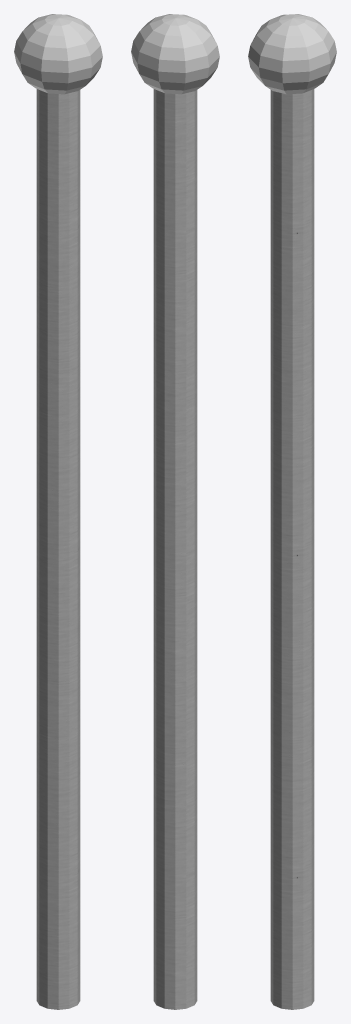
Rendered from Flagpole.fbx.
3 views of the same model, side by side, from view 1: azimuth 30°, elevation 25°; view 2: azimuth 210°, elevation 25°; view 3: azimuth 330°, elevation 25° (orthographic).
Visible parts, largest first — view 1: Pole, Sphere; view 2: Pole, Sphere; view 3: Pole, Sphere.
Boxes of the visible parts, bbox=[...] form: Pole: bbox=[36, 89, 80, 1009]; Sphere: bbox=[14, 14, 102, 94]; Pole: bbox=[153, 89, 197, 1009]; Sphere: bbox=[131, 14, 219, 94]; Pole: bbox=[270, 89, 314, 1009]; Sphere: bbox=[248, 14, 336, 94].
Bounding box in the file's own units: 0.5 × 6.16 × 0.5.
